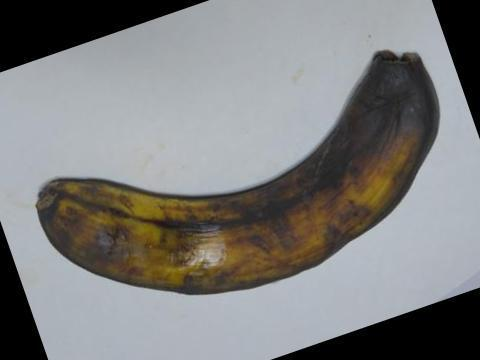overripe: (24, 41, 448, 312)
